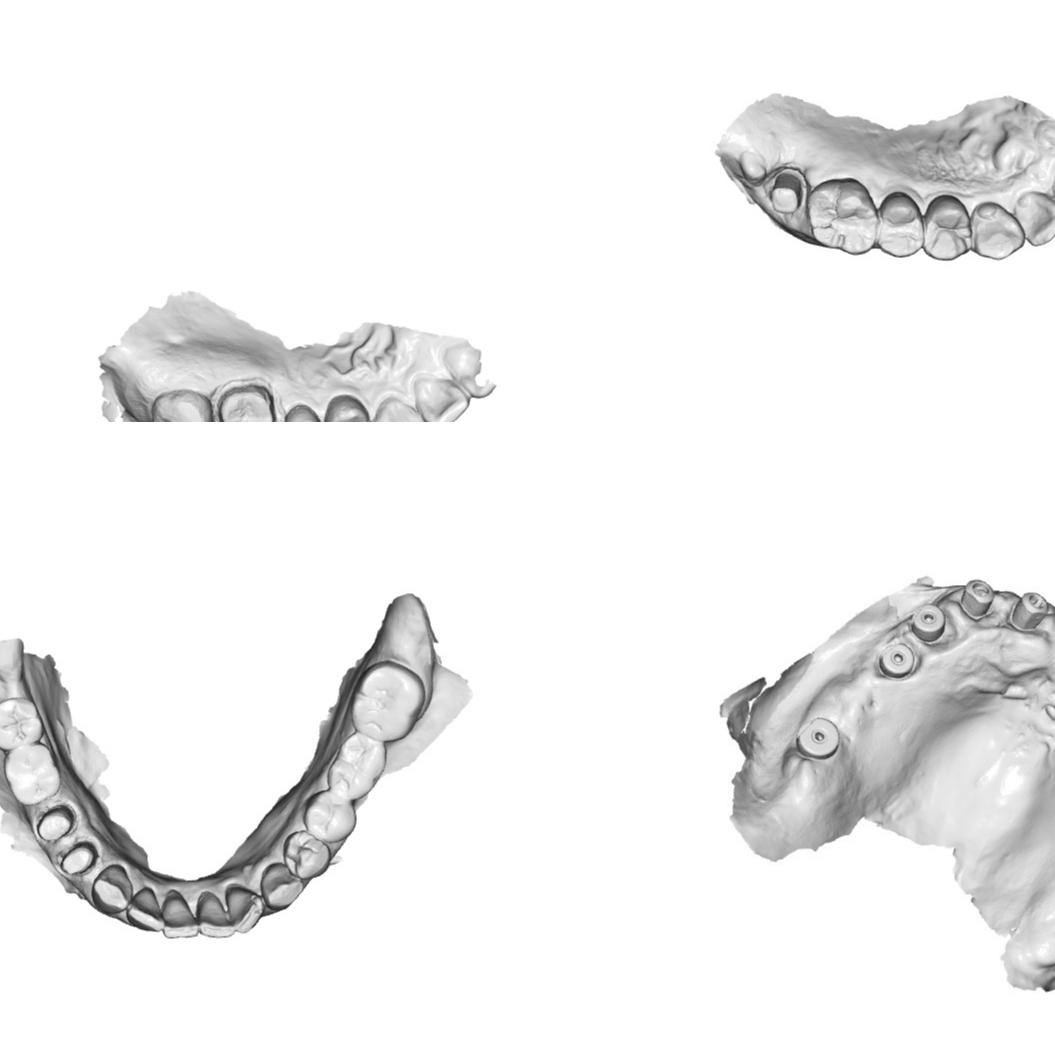abutment: (765, 166, 810, 217)
canine: (968, 201, 1023, 263), (90, 863, 134, 916), (258, 862, 304, 910), (374, 390, 429, 422)
crown: (214, 374, 284, 422), (33, 802, 76, 846), (57, 840, 99, 878)
implant: (796, 715, 841, 758), (908, 601, 946, 641), (958, 578, 995, 619), (879, 643, 916, 683), (1015, 590, 1051, 629)
incisor: (412, 373, 471, 422), (1017, 184, 1055, 250), (224, 886, 265, 934), (196, 894, 236, 940), (126, 886, 164, 934), (162, 892, 199, 940)
molar: (803, 173, 879, 257), (350, 660, 425, 742), (325, 730, 389, 802), (3, 742, 61, 806), (0, 692, 45, 751), (147, 385, 218, 422)
premolar: (872, 187, 926, 260), (923, 189, 973, 264), (302, 788, 357, 844), (281, 829, 332, 881), (324, 391, 373, 422), (277, 401, 329, 422)
